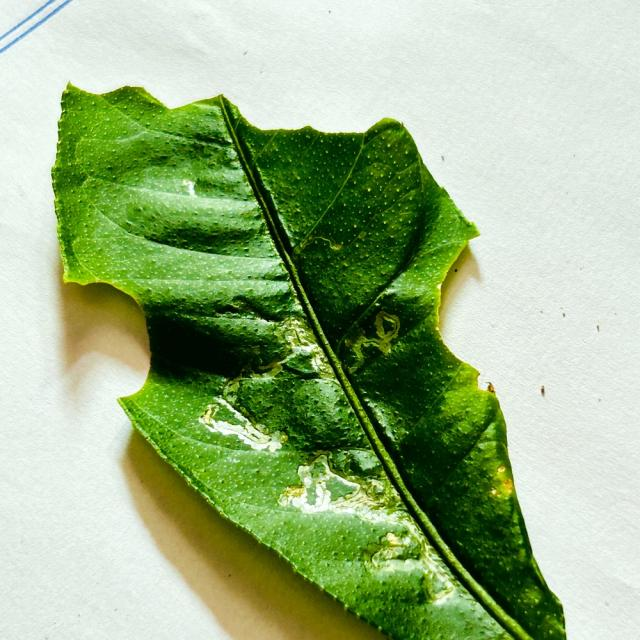Deficiency Leaf: (69, 48, 386, 133), (442, 235, 521, 397), (60, 283, 149, 405), (481, 376, 494, 393)
Lemon: (52, 85, 564, 639)
